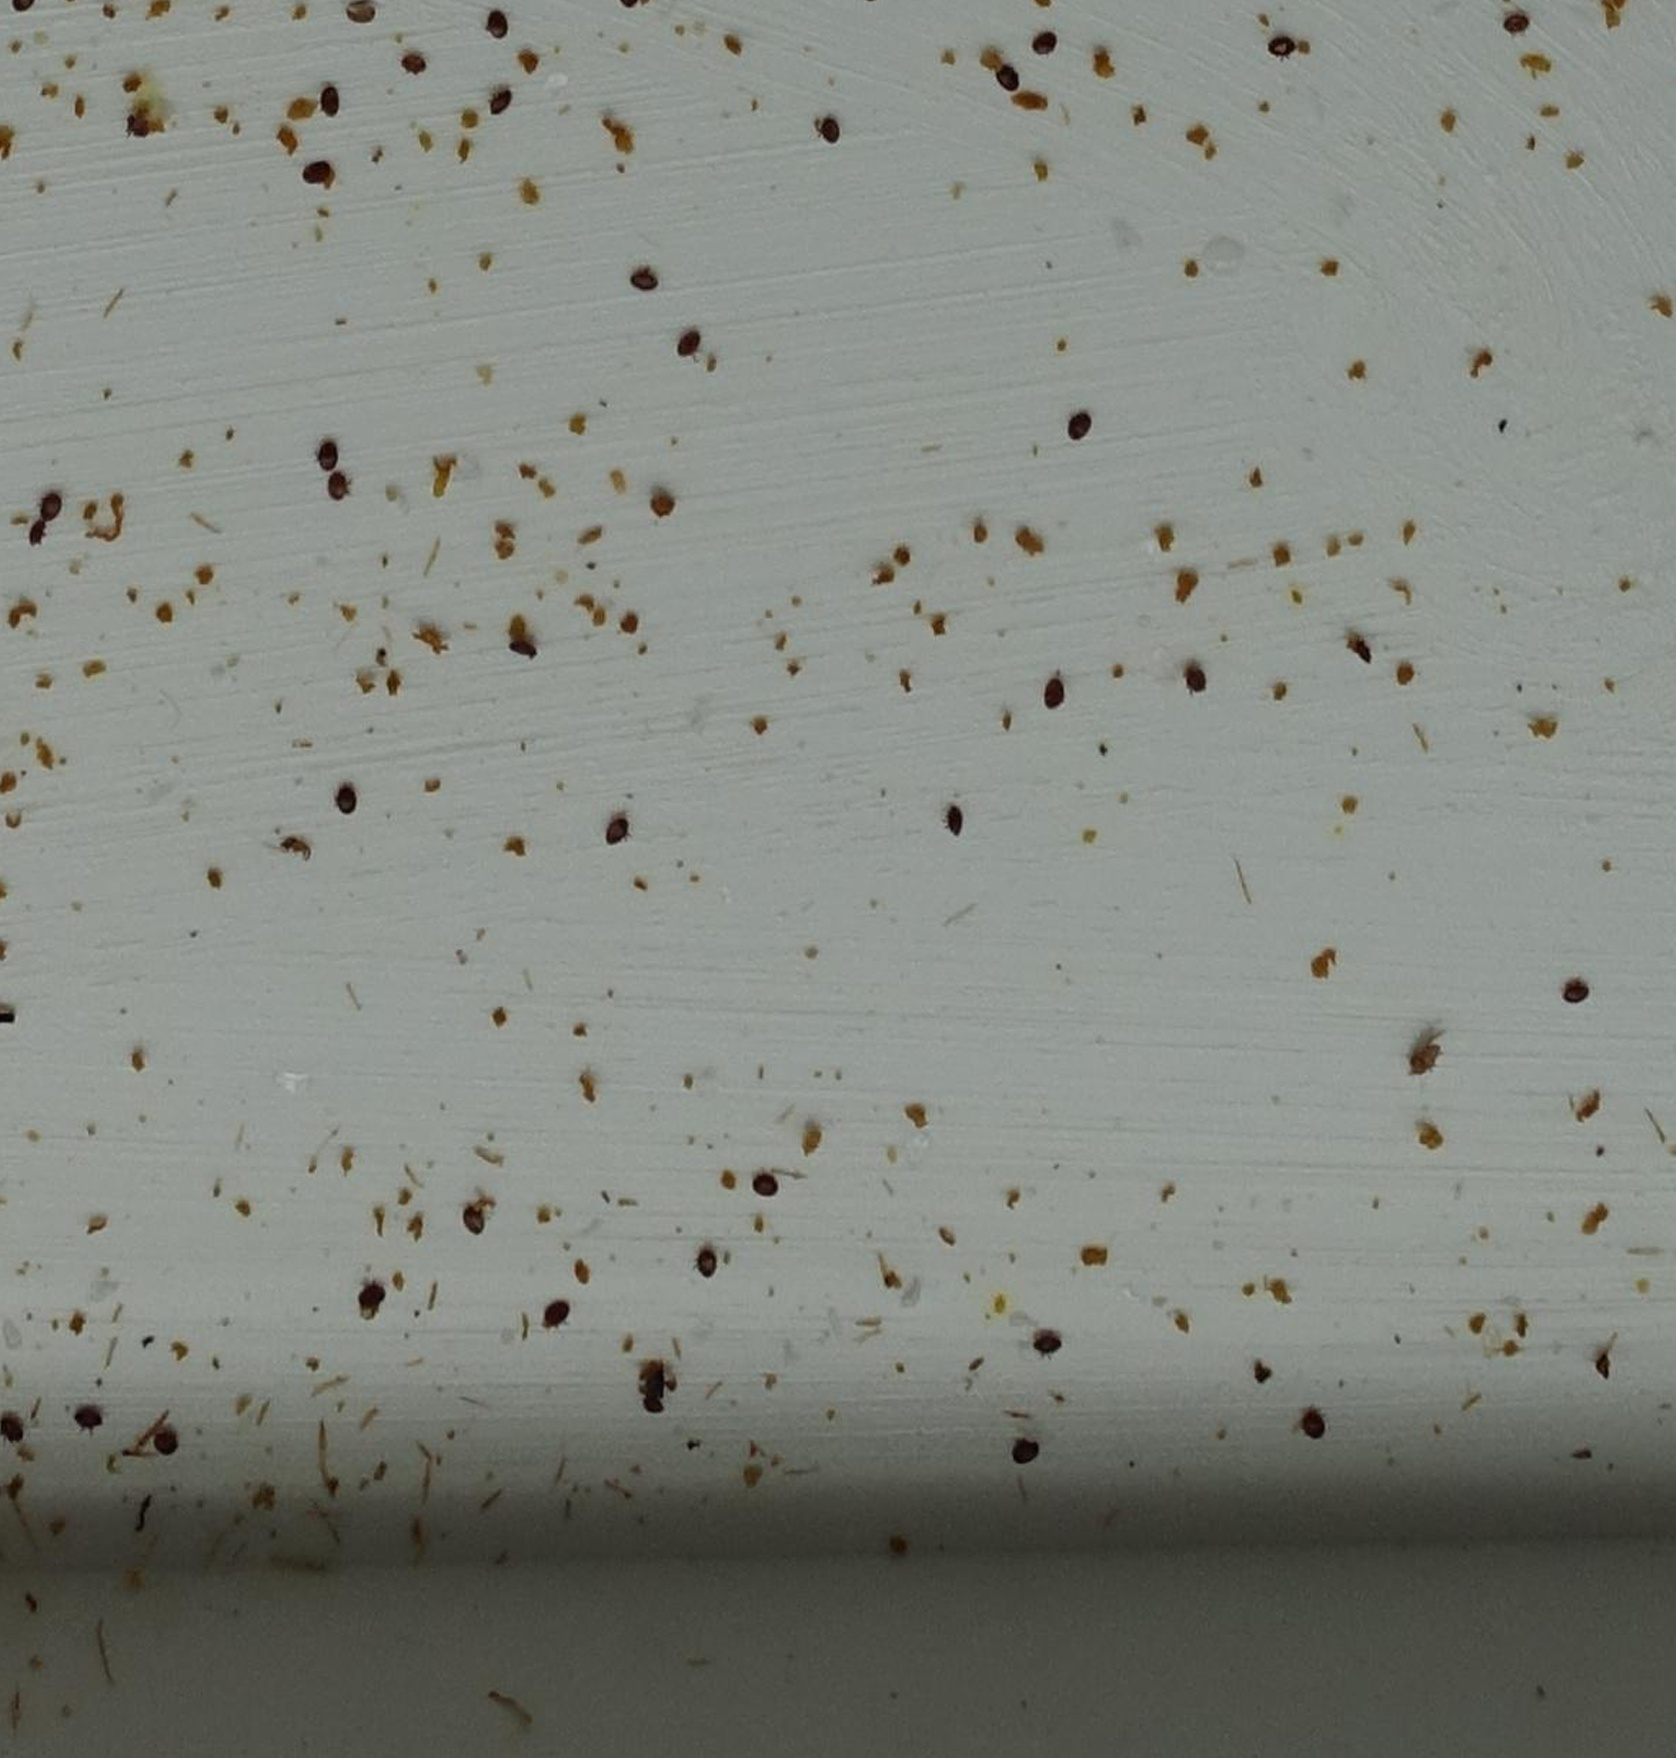Varroa: (391, 42, 435, 85), (502, 629, 545, 672), (1342, 629, 1384, 672), (1557, 983, 1593, 1020), (458, 1205, 491, 1240), (935, 804, 968, 838), (31, 494, 64, 529), (17, 515, 50, 549), (480, 6, 512, 42), (482, 89, 512, 127), (319, 468, 348, 505), (1298, 1413, 1331, 1446), (1179, 664, 1210, 698), (312, 444, 344, 479), (603, 815, 634, 848), (1029, 1326, 1061, 1359), (753, 1171, 785, 1204), (1009, 1436, 1040, 1469), (989, 60, 1020, 93), (1266, 31, 1298, 63), (538, 1301, 570, 1333), (312, 88, 344, 119), (1066, 410, 1095, 441), (331, 783, 361, 815), (811, 115, 841, 146), (1039, 678, 1069, 709), (689, 1251, 719, 1281), (304, 155, 333, 185), (72, 1402, 100, 1432), (1034, 30, 1062, 60), (629, 268, 658, 297), (675, 330, 703, 356), (356, 1289, 383, 1317), (149, 1428, 176, 1457), (1505, 11, 1530, 36)
